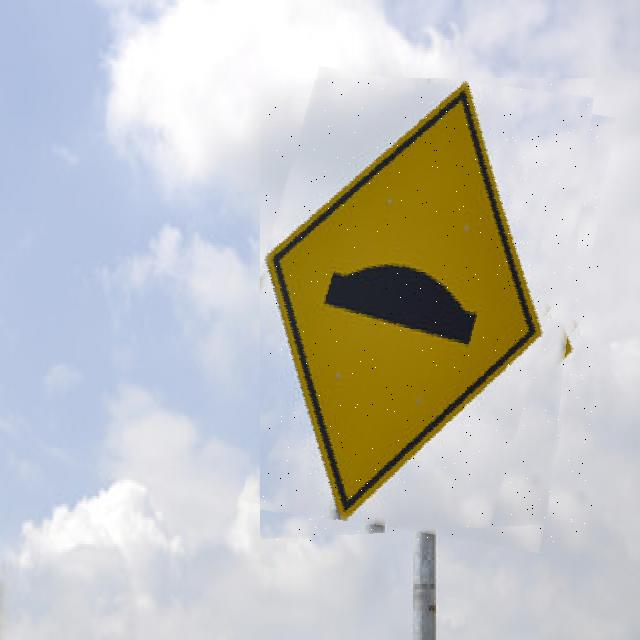hump: (260, 78, 598, 542)
